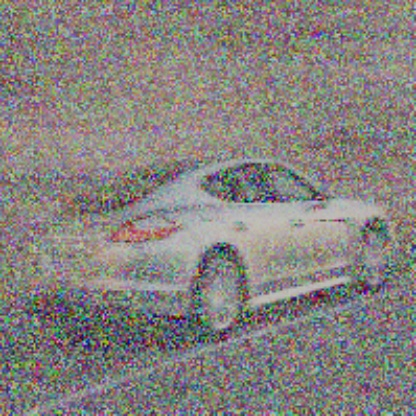Vehicle: (20, 153, 397, 341)
